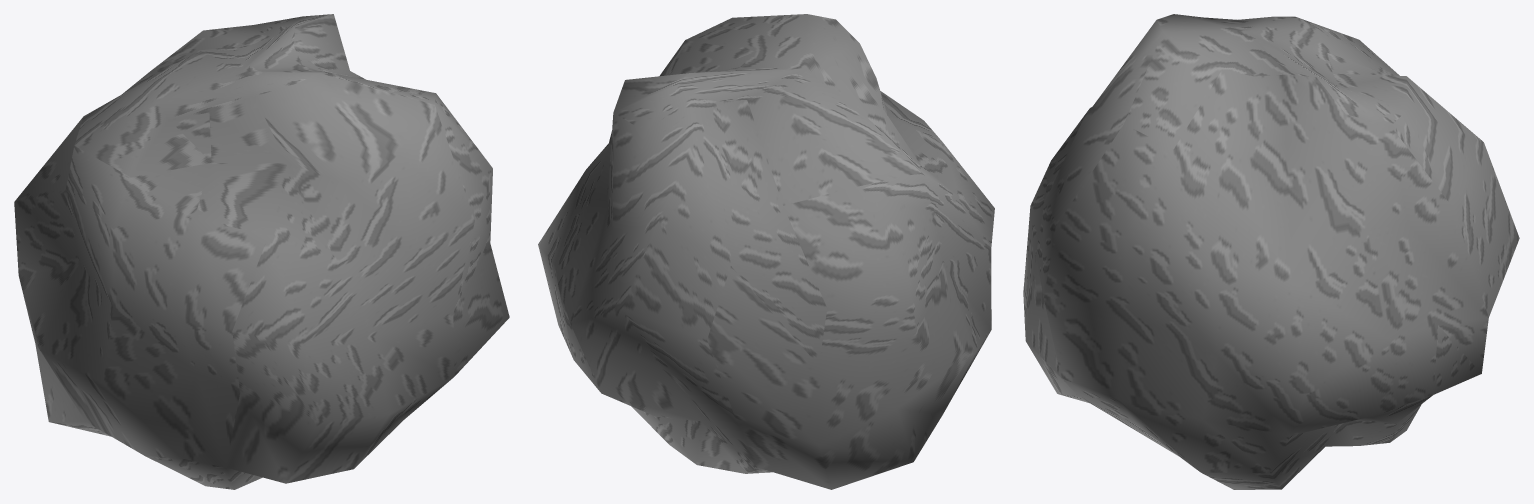
Rendered from stone_tiny.FBX.
3 renders of one model, left to right at view 1: azimuth 30°, elevation 25°; view 2: azimuth 150°, elevation 25°; view 3: azimuth 270°, elevation 25°, orthographic. The views are drawn at different scales.
Parts seen in each view (by area): view 1: Sphere003; view 2: Sphere003; view 3: Sphere003.
Part boxes in pixels (x1,y1,x2,y2): Sphere003: (14,14,509,489); Sphere003: (538,14,994,489); Sphere003: (1023,14,1519,489).
Bounding box in the file's own units: 24.08 × 20.49 × 22.66.
Materials: 1 (1 with a texture image).
